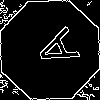A: (25, 25, 80, 75)
